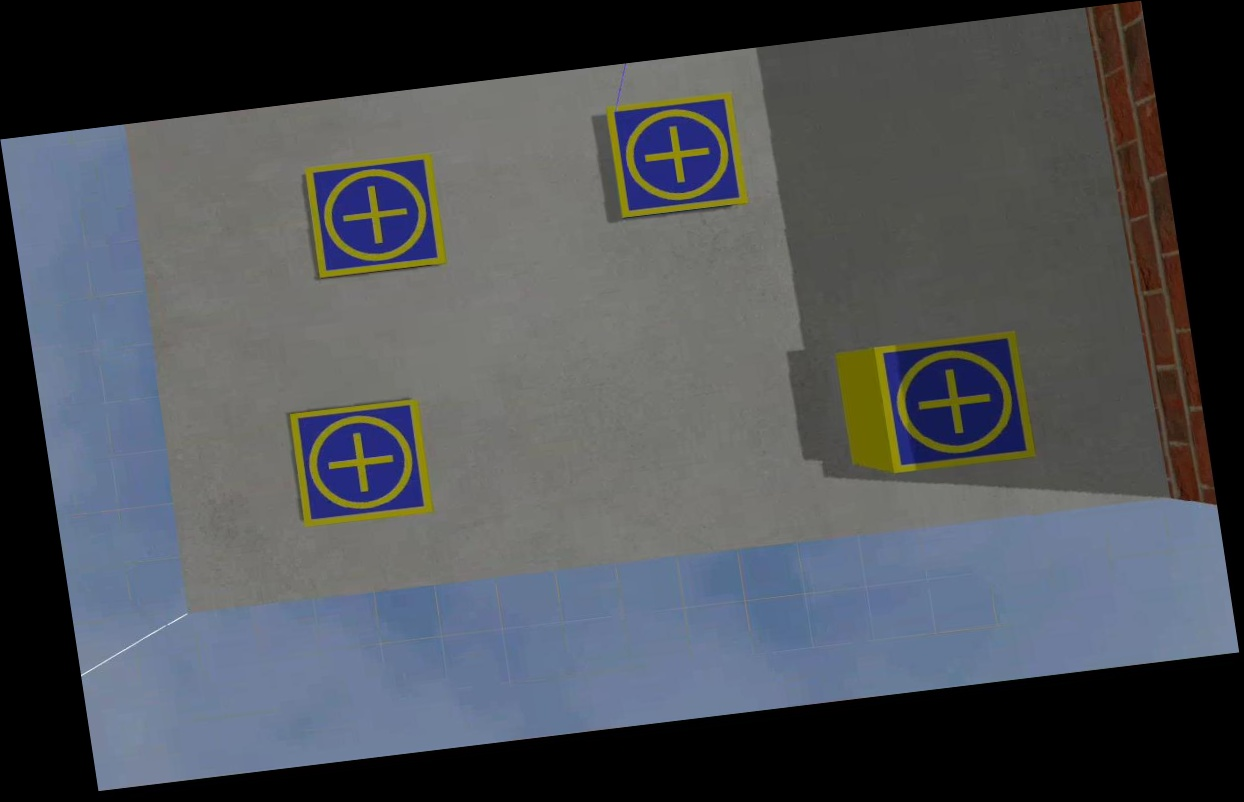small_base: (872, 328, 1039, 475), (288, 397, 438, 526), (604, 90, 749, 219), (306, 154, 447, 280)
